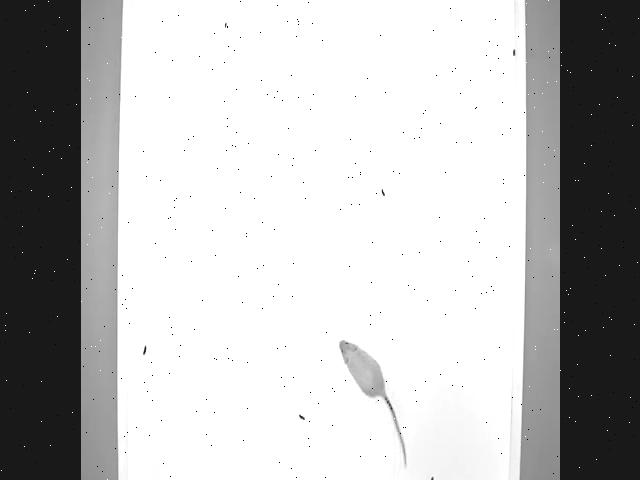Tikus: (337, 342, 408, 472)
